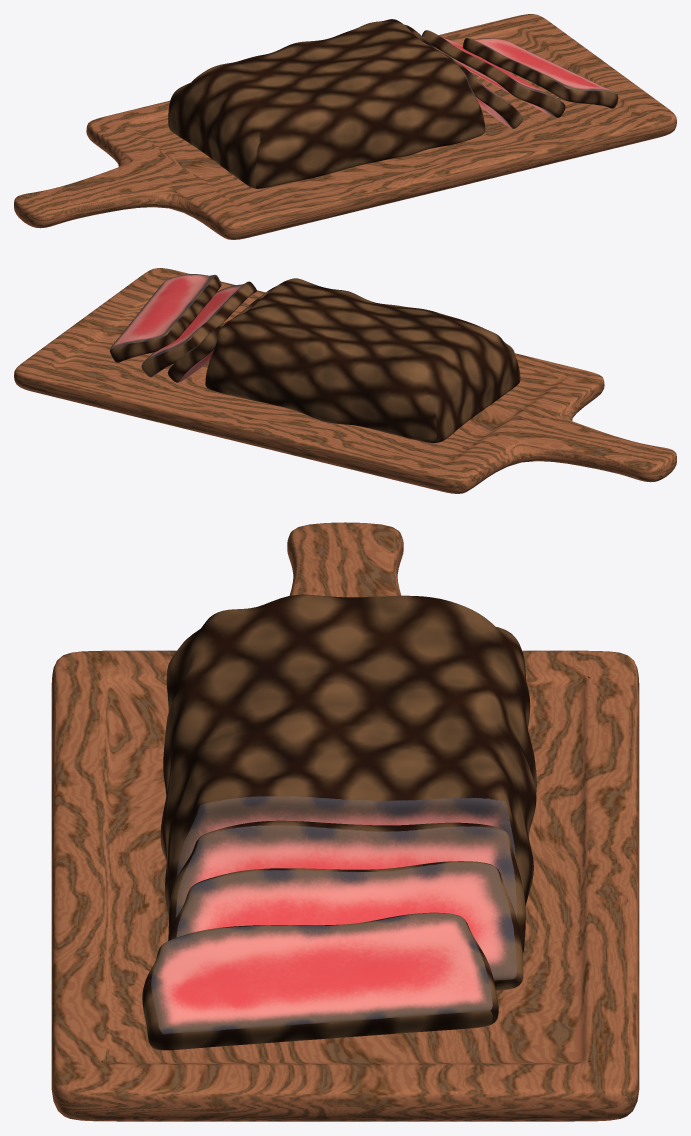
Rendered from steak.fbx.
3 views of the same model, one above another, from view 1: azimuth 30°, elevation 25°; view 2: azimuth 150°, elevation 25°; view 3: azimuth 270°, elevation 25° (orthographic). The views are drawn at different scales.
Visible parts, largest first — view 1: Plate, Steak, Steak.003, Steak.002, Steak.001; view 2: Plate, Steak, Steak.003, Steak.002, Steak.001; view 3: Plate, Steak, Steak.003, Steak.002, Steak.001.
Boxes of the visible parts, x1,y1,x2,y2 form: Plate: (14,14,676,239); Steak: (168,19,485,188); Steak.003: (462,38,618,108); Steak.002: (422,30,565,117); Steak.001: (404,24,522,128); Plate: (14,268,676,493); Steak: (205,278,520,442); Steak.003: (110,274,221,362); Steak.002: (141,281,256,377); Steak.001: (167,286,276,382); Plate: (51,522,639,1121); Steak: (160,594,536,915); Steak.003: (142,912,498,1050); Steak.002: (168,861,523,990); Steak.001: (168,820,525,953).
Size of the model in its own units: 462 by 64.53 by 200.
